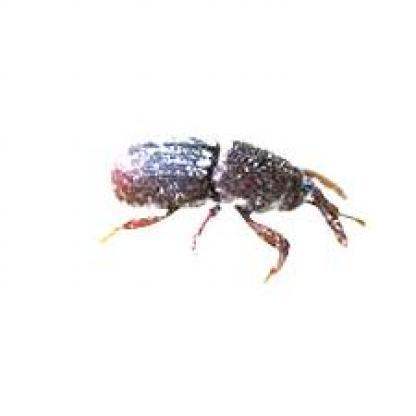rice-bug: (107, 130, 358, 248)
